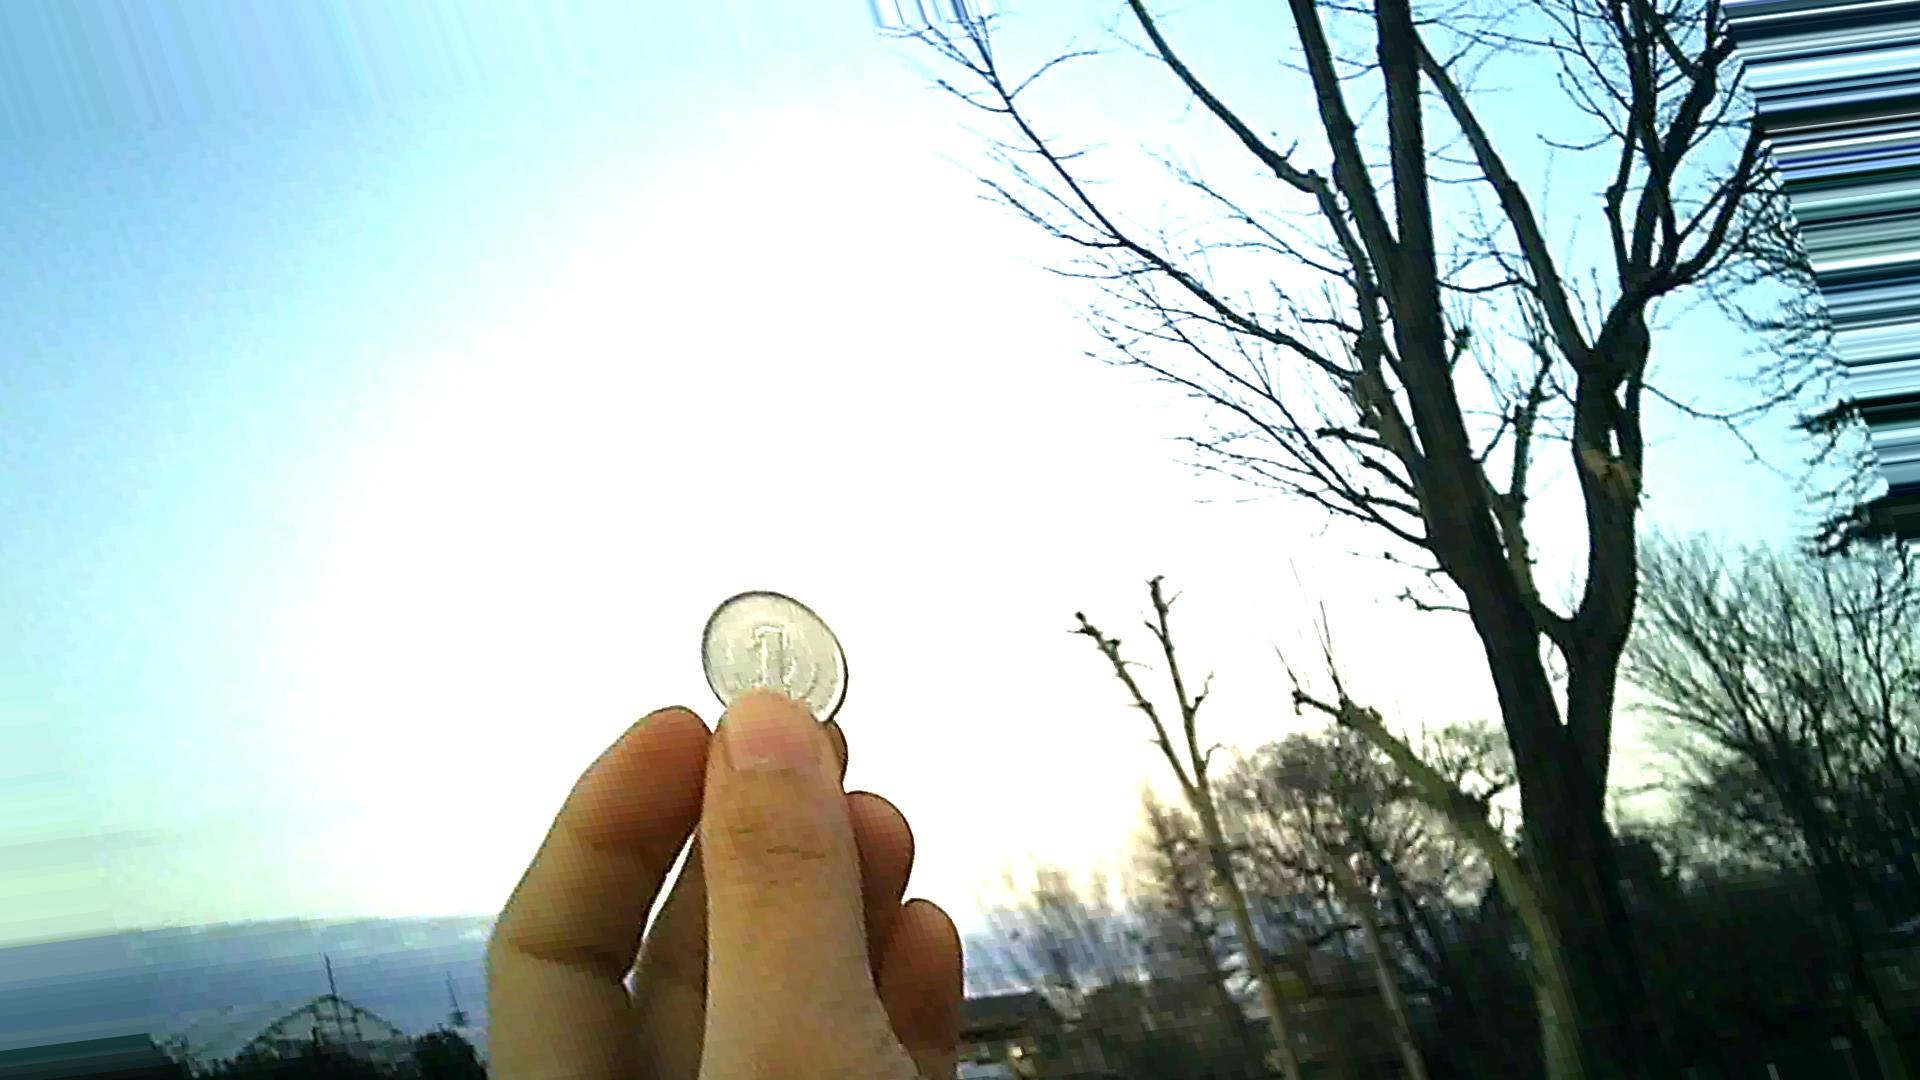1 Yen: (680, 585, 858, 749)
